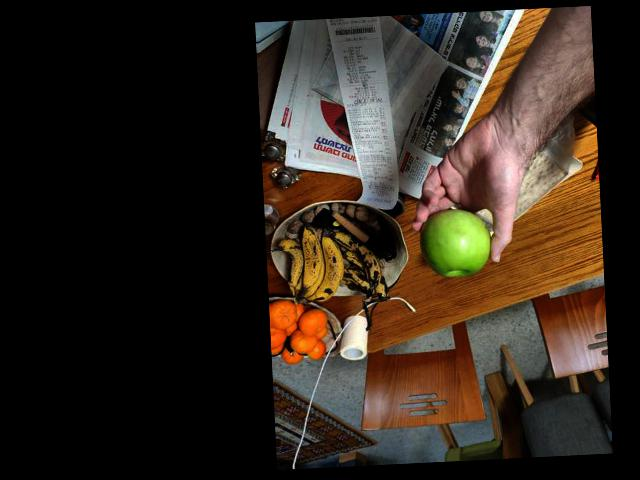apple: (418, 202, 498, 287)
